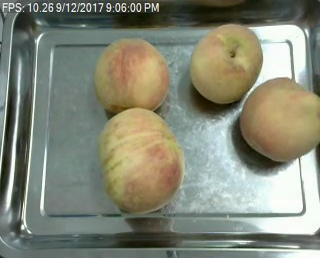Peach: (99, 107, 184, 213), (239, 77, 320, 161), (188, 23, 263, 104), (93, 37, 167, 112)
